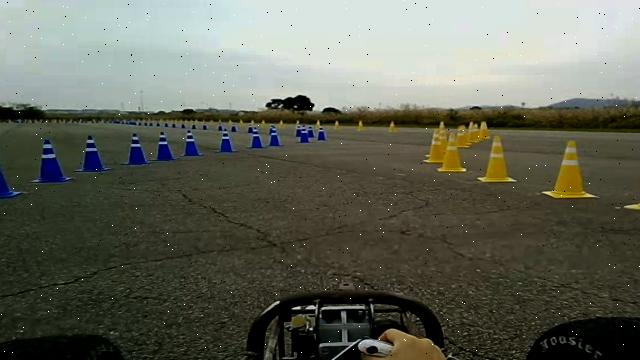blue cone: (29, 139, 74, 183), (73, 135, 112, 172), (0, 144, 22, 199), (121, 132, 152, 166), (154, 130, 177, 160), (179, 130, 203, 156), (245, 126, 268, 148), (214, 132, 237, 152), (266, 124, 282, 146), (298, 127, 310, 143), (316, 128, 327, 141)
yellow cone: (540, 140, 600, 199), (422, 120, 490, 172), (476, 134, 517, 182), (623, 143, 640, 214), (436, 145, 466, 172), (422, 140, 444, 163), (455, 134, 470, 148), (479, 121, 490, 139)
